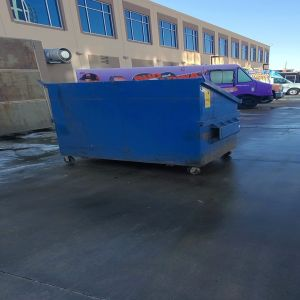Dumpster: (48, 85, 242, 180)
